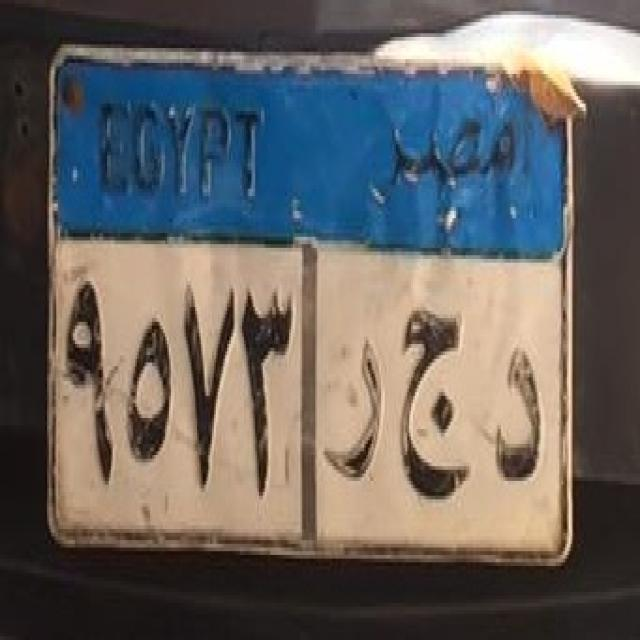3: (238, 283, 298, 497)
5: (120, 309, 180, 466)
7: (180, 280, 238, 492)
9: (60, 274, 119, 489)
R: (325, 330, 387, 484)
daal: (489, 337, 547, 490)
geem: (395, 298, 475, 504)
